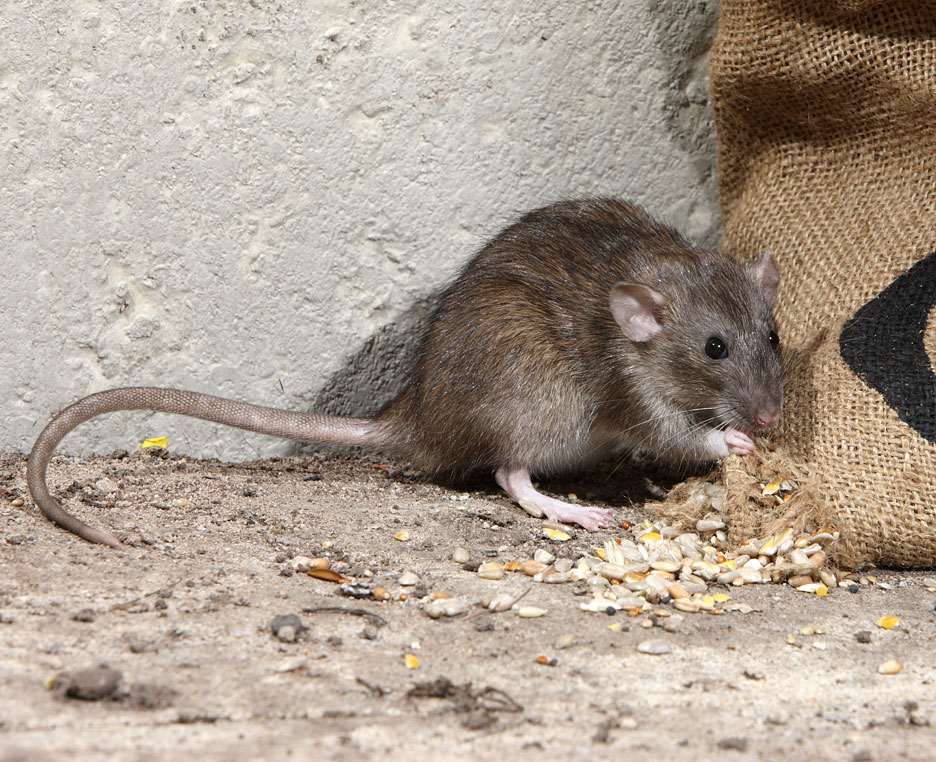rat: (238, 181, 809, 541)
